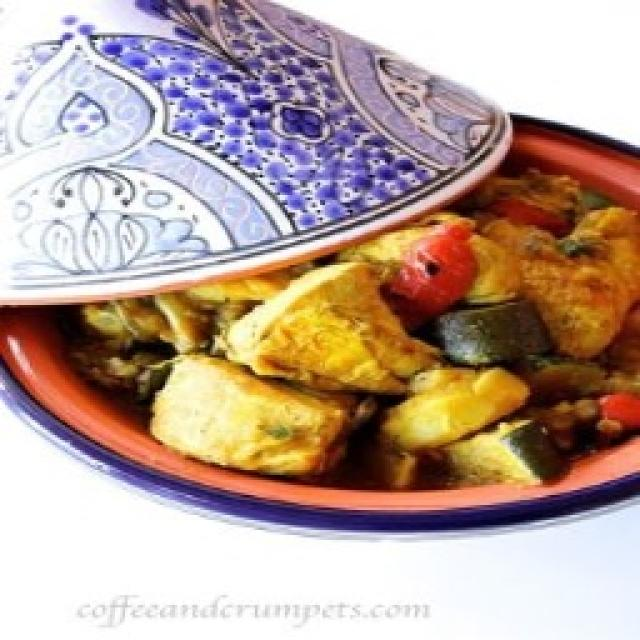Couscous: (55, 170, 640, 495)
